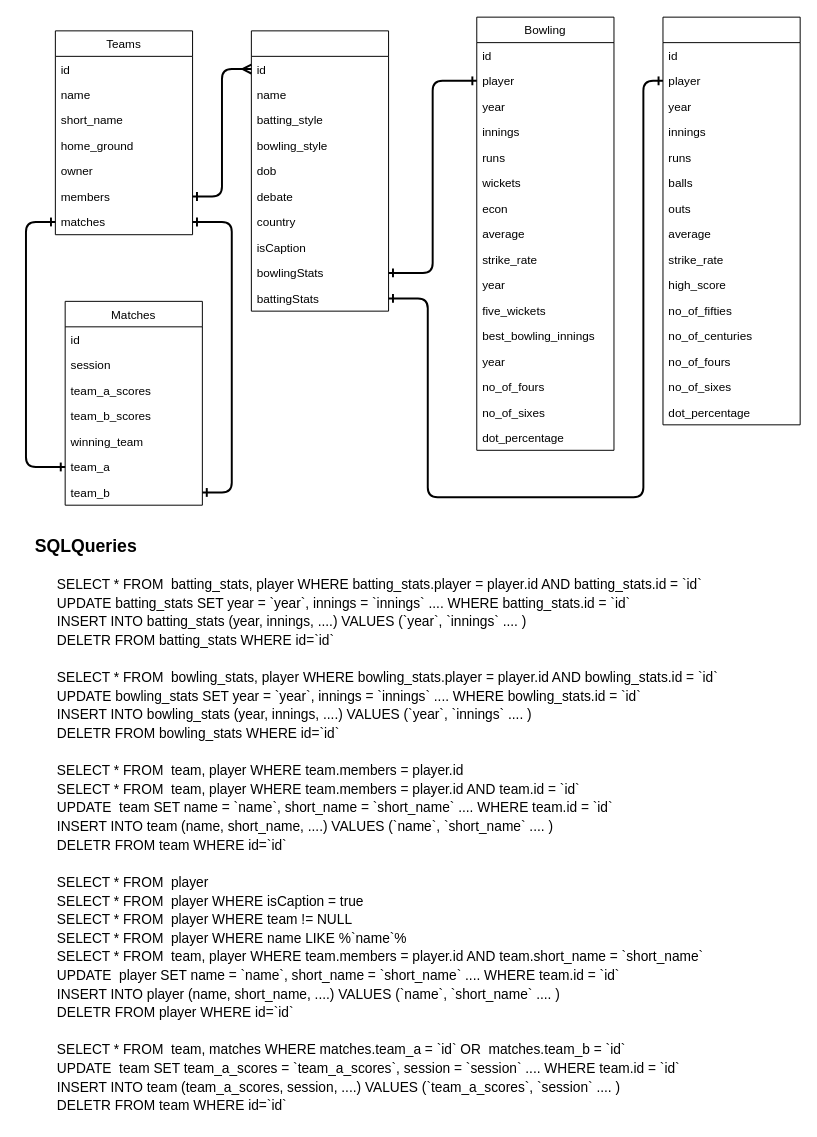
This 817x1137 diagram has some shape labels left out. Each missing label, with the box of its shape:
Batting: (662, 16, 800, 425)
Players: (250, 30, 389, 311)
